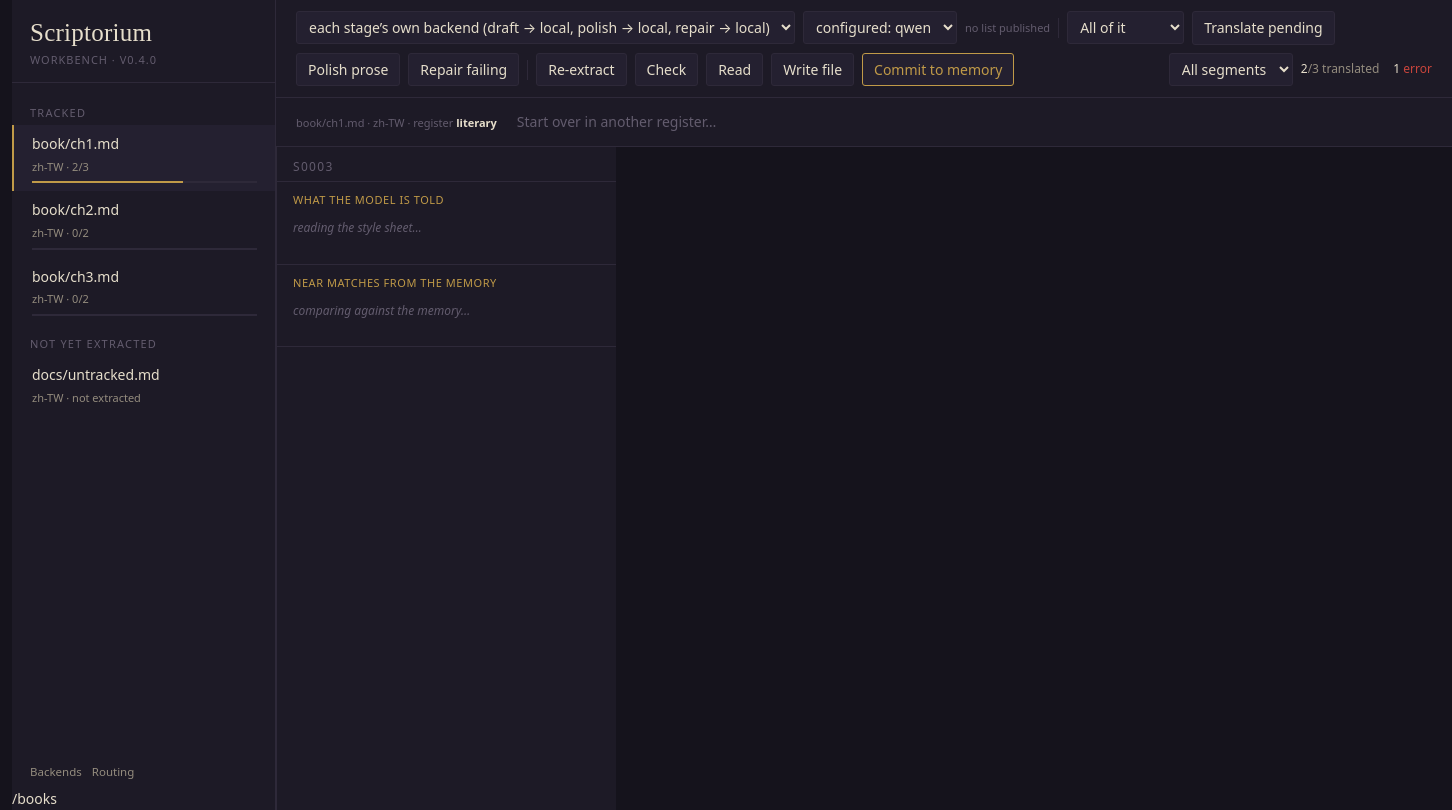
Test case: what the page acts on is what it has just read › does not carry Re-extract on when the address has moved to a file whose read failed (older)
The width and height of the screenshot is (1452, 810).
Expected: the text "/3 translated" is shown, x1=1301 y1=60 x2=1379 y2=79
Click the button "Re-extract" at [581, 70], box x1=536 y1=53 x2=626 y2=86
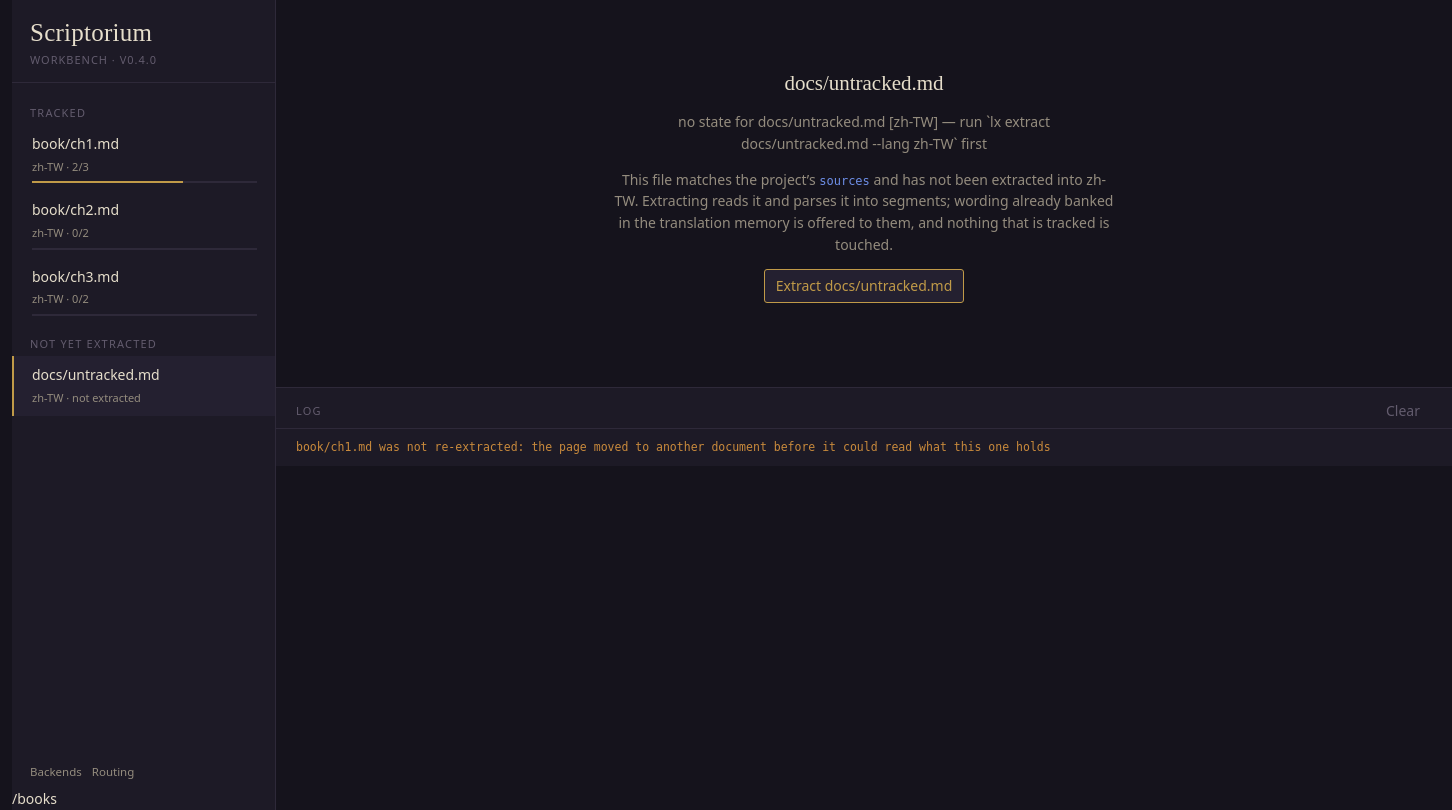
Now the heading "docs/untracked.md" is shown, box x1=784 y1=71 x2=944 y2=95
